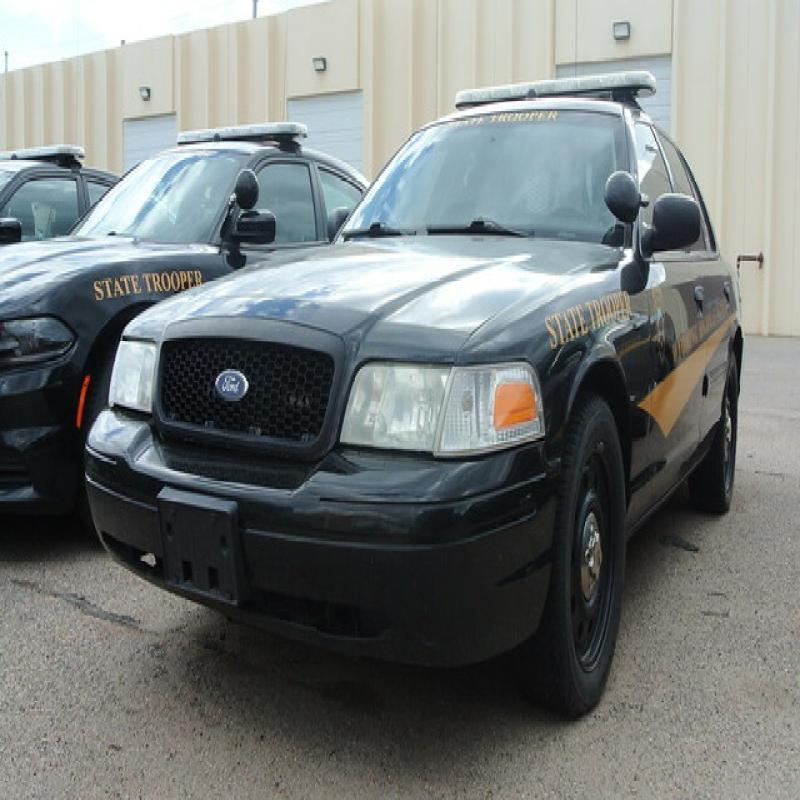car: (96, 63, 770, 743)
